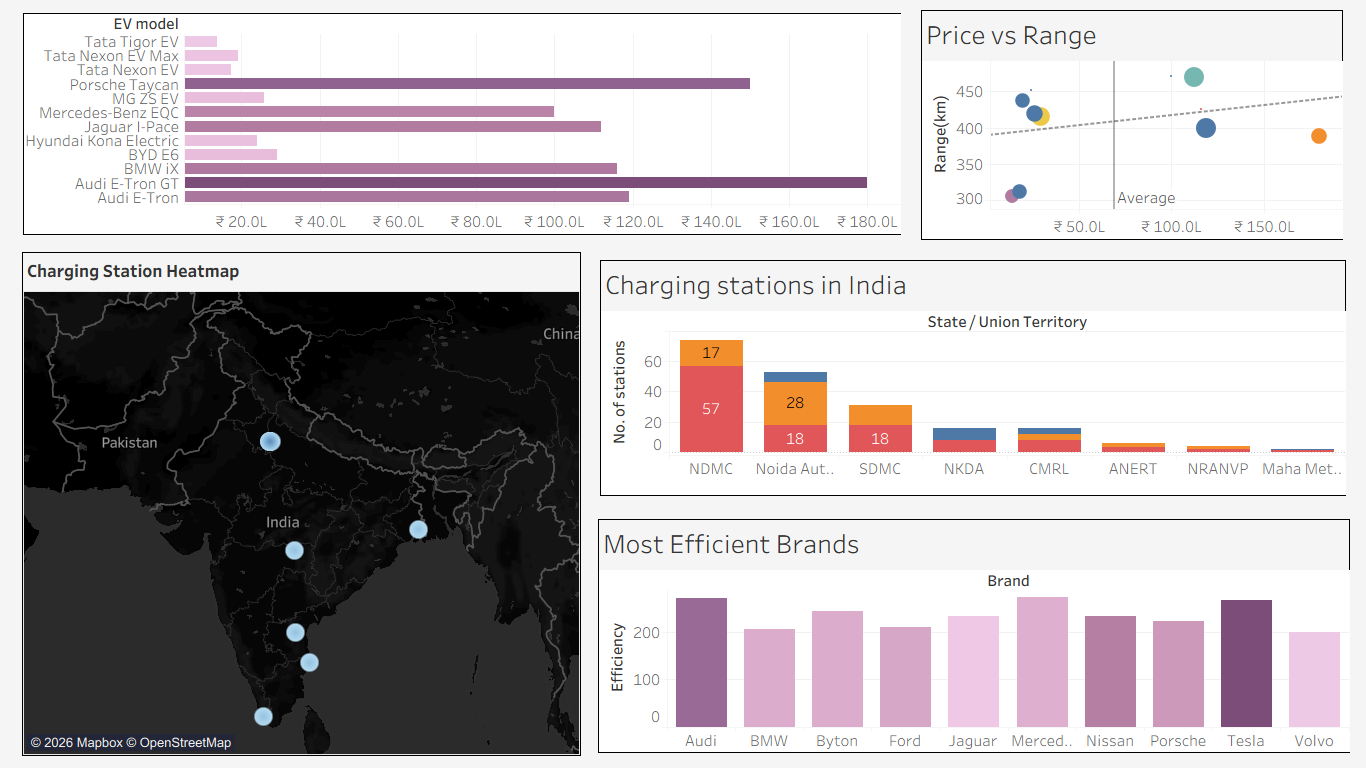

This screenshot's page, from the dashboard's own definition file:
{"tool":"tableau","page":{"name":"Final Dashboard","canvas":[1366,768],"ordinal":0},"visuals":[{"type":"worksheet","title":"Car price India","mark":"Automatic","rows":["Car"],"cols":["Price_Lakhs"],"box":[13,3,898,242]},{"type":"worksheet","title":"India_Price_vs_Range","mark":"Circle","rows":["Range_Km"],"cols":["Price_Lakhs"],"box":[921,10,422,230]},{"type":"worksheet","title":"Charging stations in India","mark":"Automatic","rows":["view_charging_clean_2AAB7E477BAA4E84BD9C79208E8F5B05"],"cols":["Region"],"box":[590,250,766,256]},{"type":"worksheet","title":"EV charging stations across India","mark":"Heatmap","rows":["Latitude"],"cols":["Longitude"],"box":[21,251,561,506]},{"type":"worksheet","title":"Top 10 most efficient EV","mark":"Automatic","rows":["Efficiency_WhKm"],"cols":["Brand"],"box":[588,509,772,254]}]}

Visuals, with their boxes in screenshot pixels (x1, y1, x2, y2), scaled from the page's 1366x768 canvas onto the 1366x768 screenshot:
"Car price India" worksheet: 13, 3, 911, 245
"India_Price_vs_Range" worksheet (Circle marks): 921, 10, 1343, 240
"Charging stations in India" worksheet: 590, 250, 1356, 506
"EV charging stations across India" worksheet (Heatmap marks): 21, 251, 582, 757
"Top 10 most efficient EV" worksheet: 588, 509, 1360, 763
